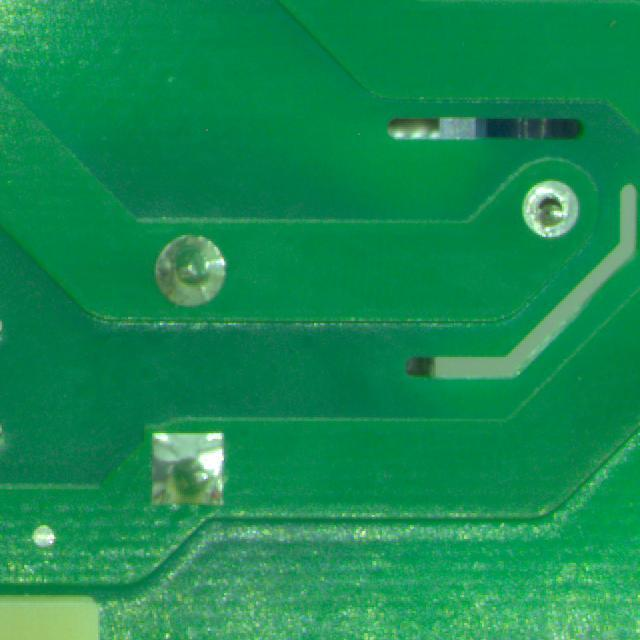Insufficient solder: (518, 170, 584, 242)
